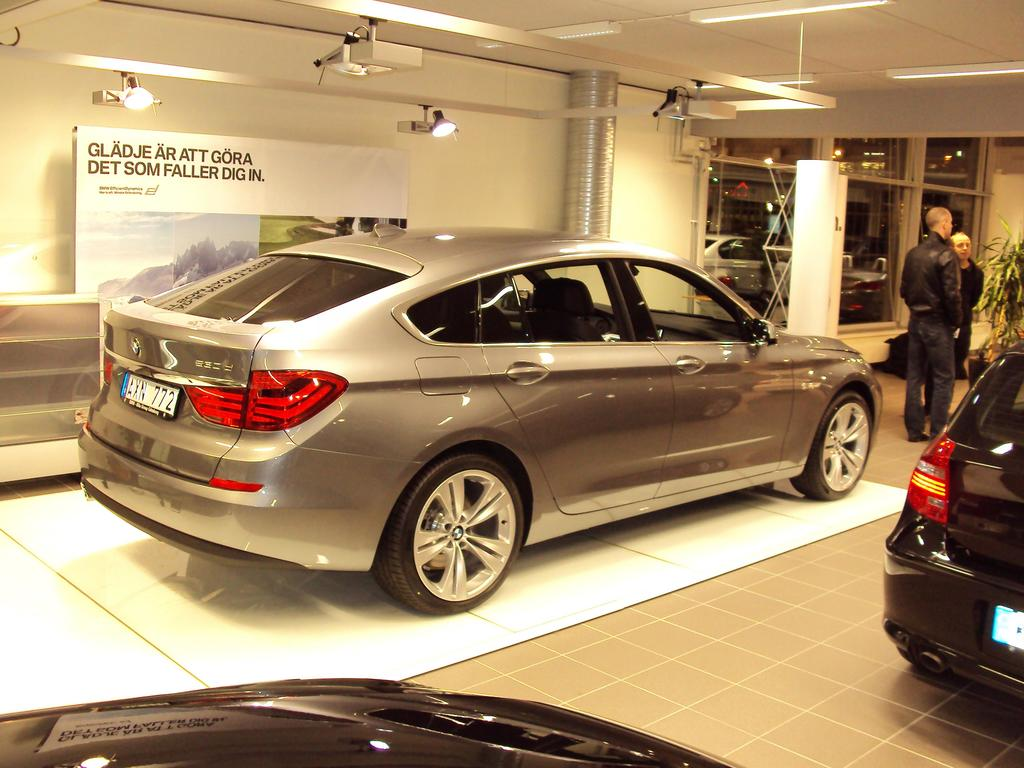Car: (65, 229, 899, 618), (0, 668, 735, 767), (874, 331, 1023, 701)
